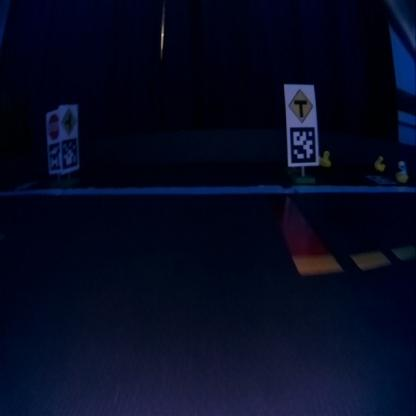Duckie: (396, 160, 406, 183), (320, 153, 329, 167), (375, 155, 384, 168)
Intersection sign: (286, 87, 312, 122), (61, 107, 77, 134)
QR code: (288, 127, 314, 164), (62, 140, 78, 170), (48, 144, 59, 171), (366, 172, 394, 182)
Stop sign: (46, 112, 59, 138)
